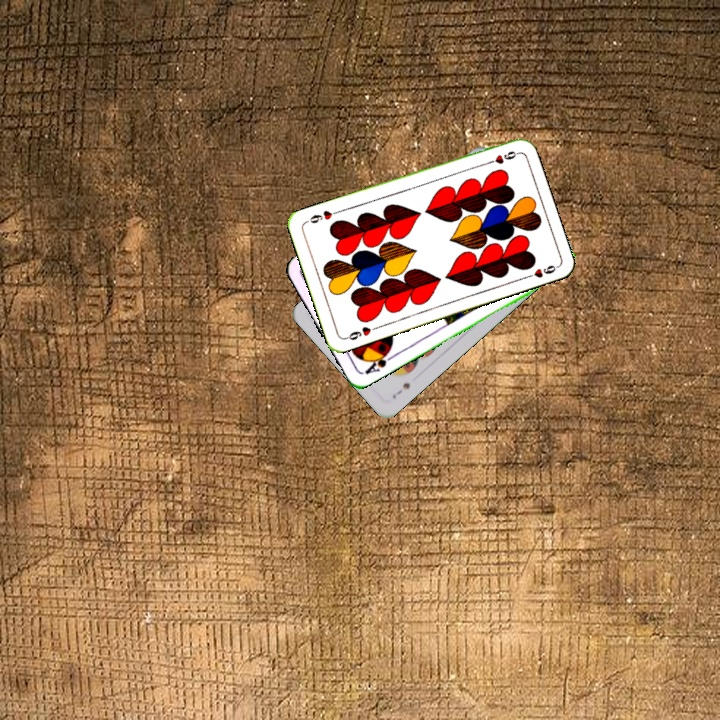H9: (481, 147, 521, 168), (341, 322, 380, 343)
S7: (388, 379, 413, 401)
SA: (360, 345, 397, 377)
